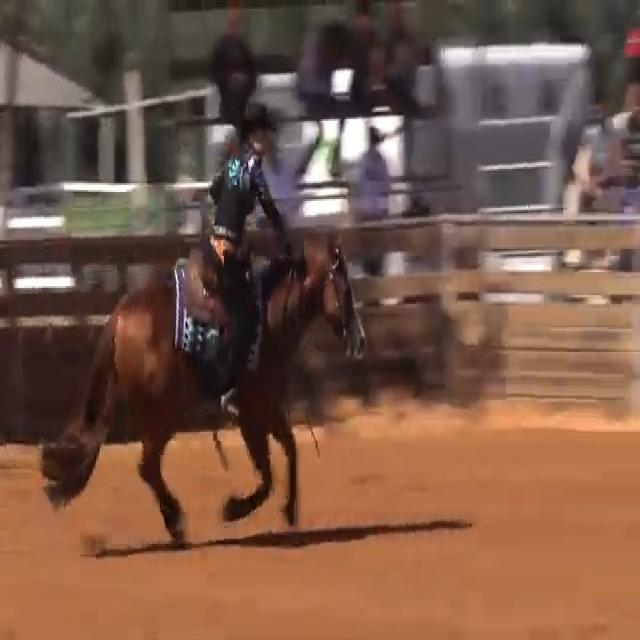horse: (52, 237, 355, 542)
